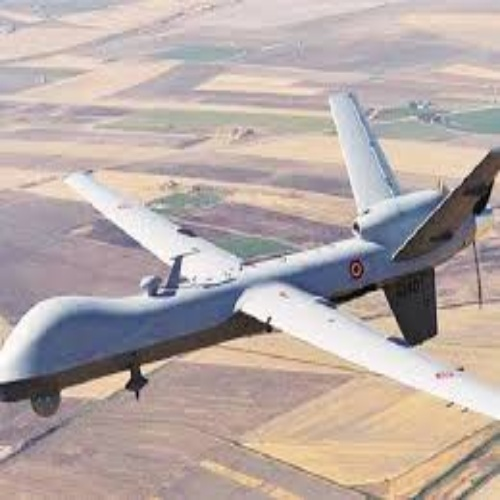uav: (1, 91, 500, 421)
